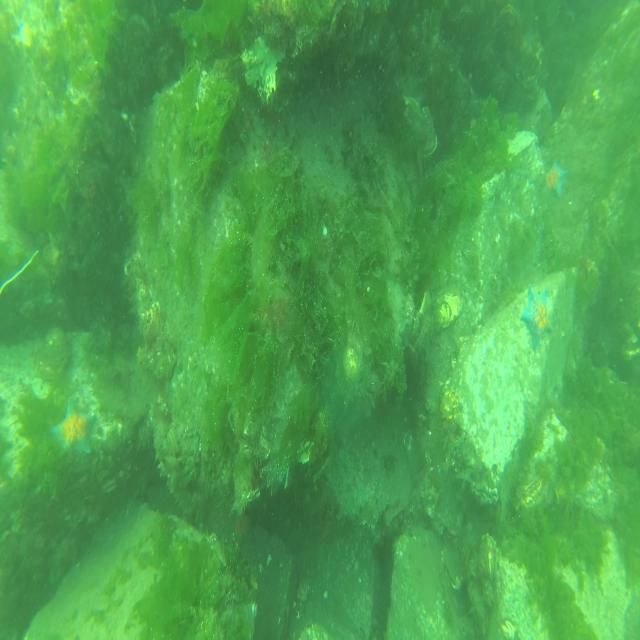starfish: (50, 396, 97, 460), (520, 282, 554, 352), (544, 159, 568, 199)
